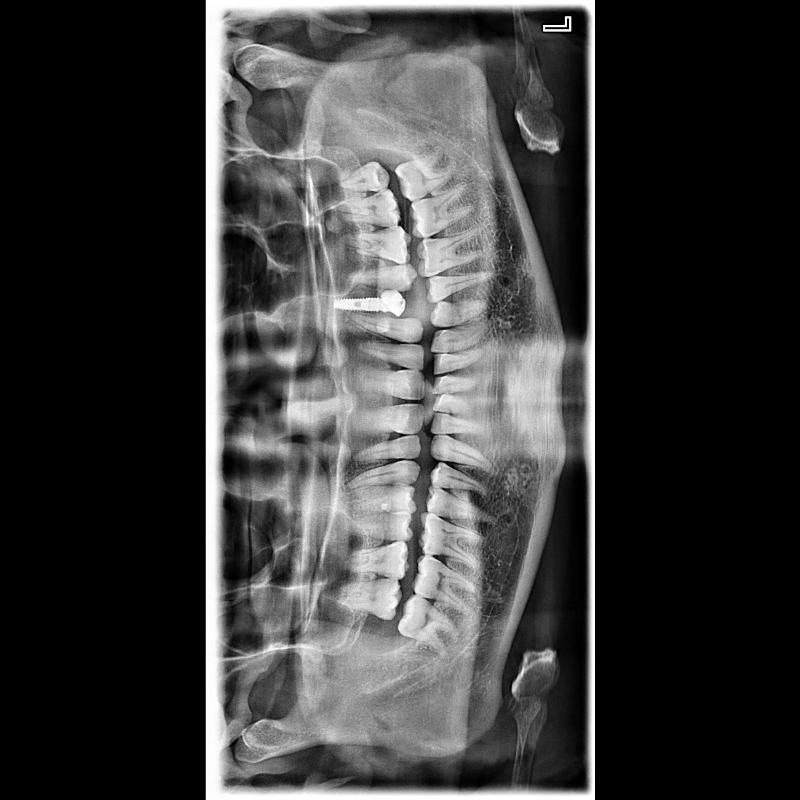osstem: (330, 289, 382, 316)
